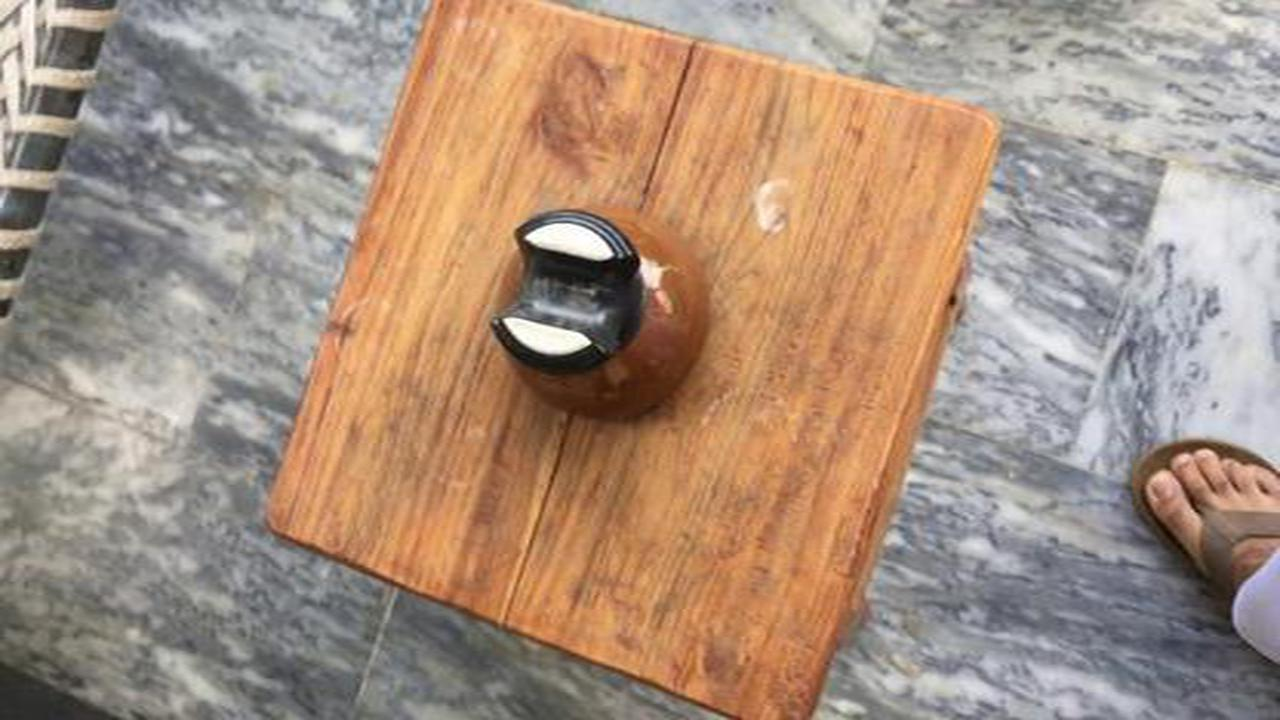insulator_pin: (465, 200, 739, 430)
